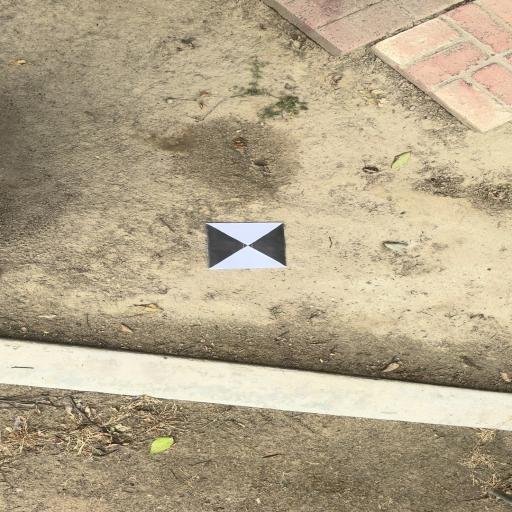target: (205, 224, 286, 268)
